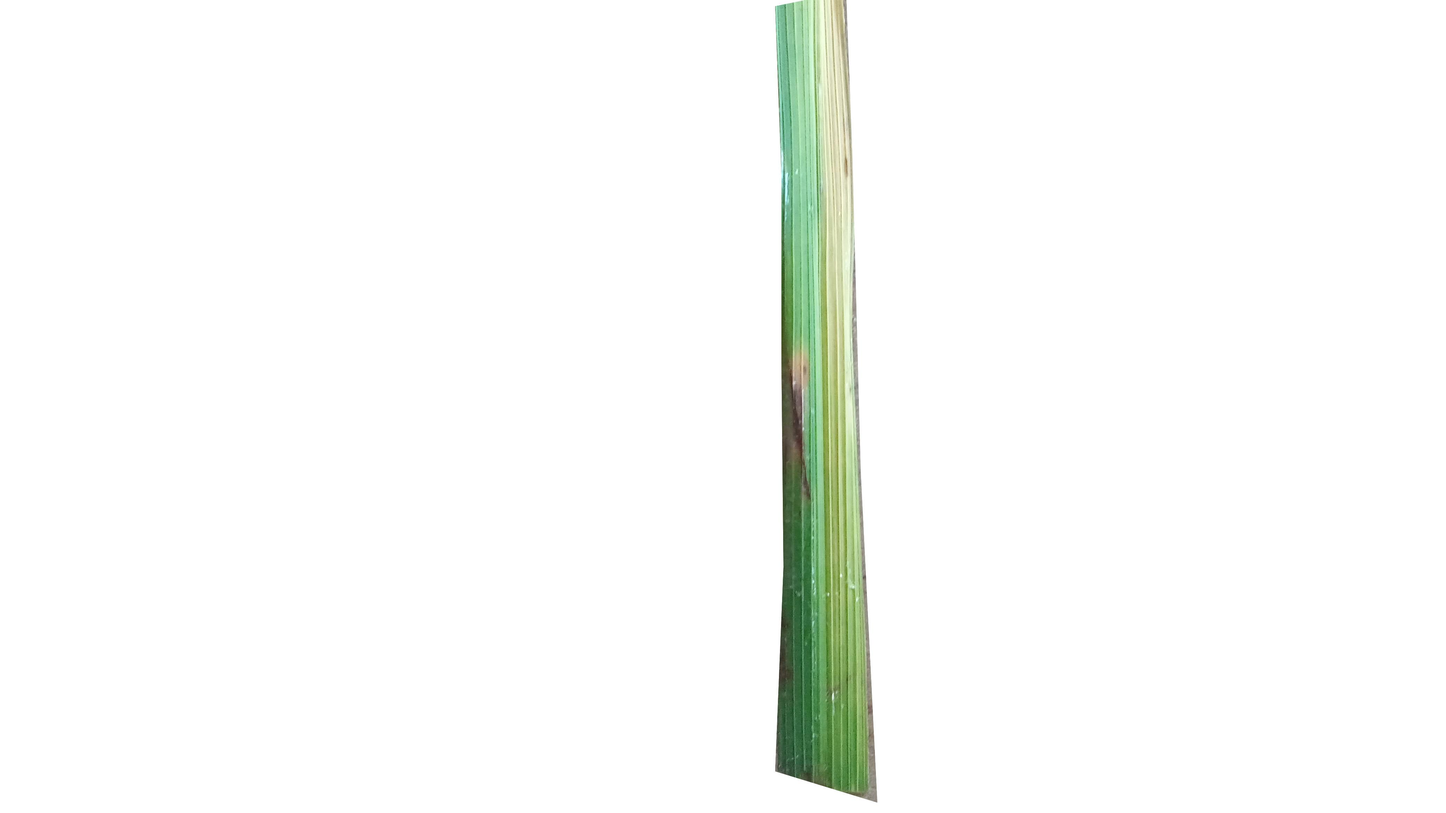Rice blast: (784, 349, 829, 516)
